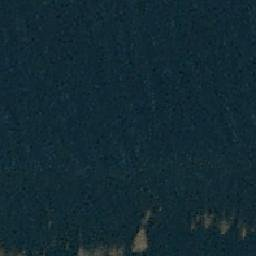debris: (130, 228, 149, 249), (217, 215, 235, 233), (191, 213, 200, 232), (203, 212, 213, 229), (238, 222, 247, 237), (143, 210, 151, 224)
